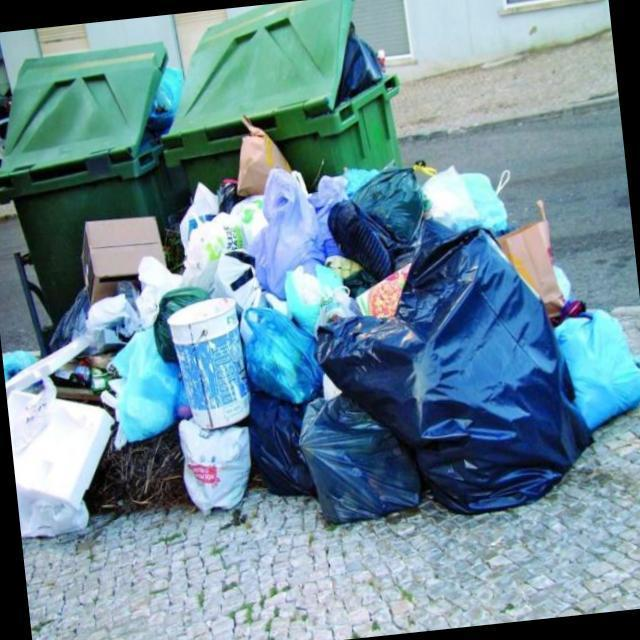garbage: (0, 134, 640, 551)
